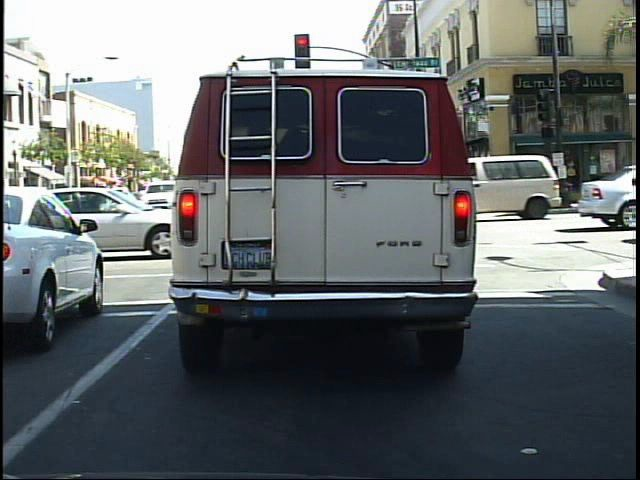person: (536, 154, 563, 214), (516, 157, 541, 215), (483, 156, 502, 214), (492, 165, 512, 212)
